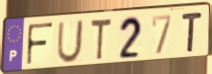2: (116, 13, 145, 62)
7: (150, 13, 173, 57)
F: (26, 22, 55, 68)
T: (89, 17, 113, 63), (180, 11, 204, 54)
U: (55, 19, 86, 65)
